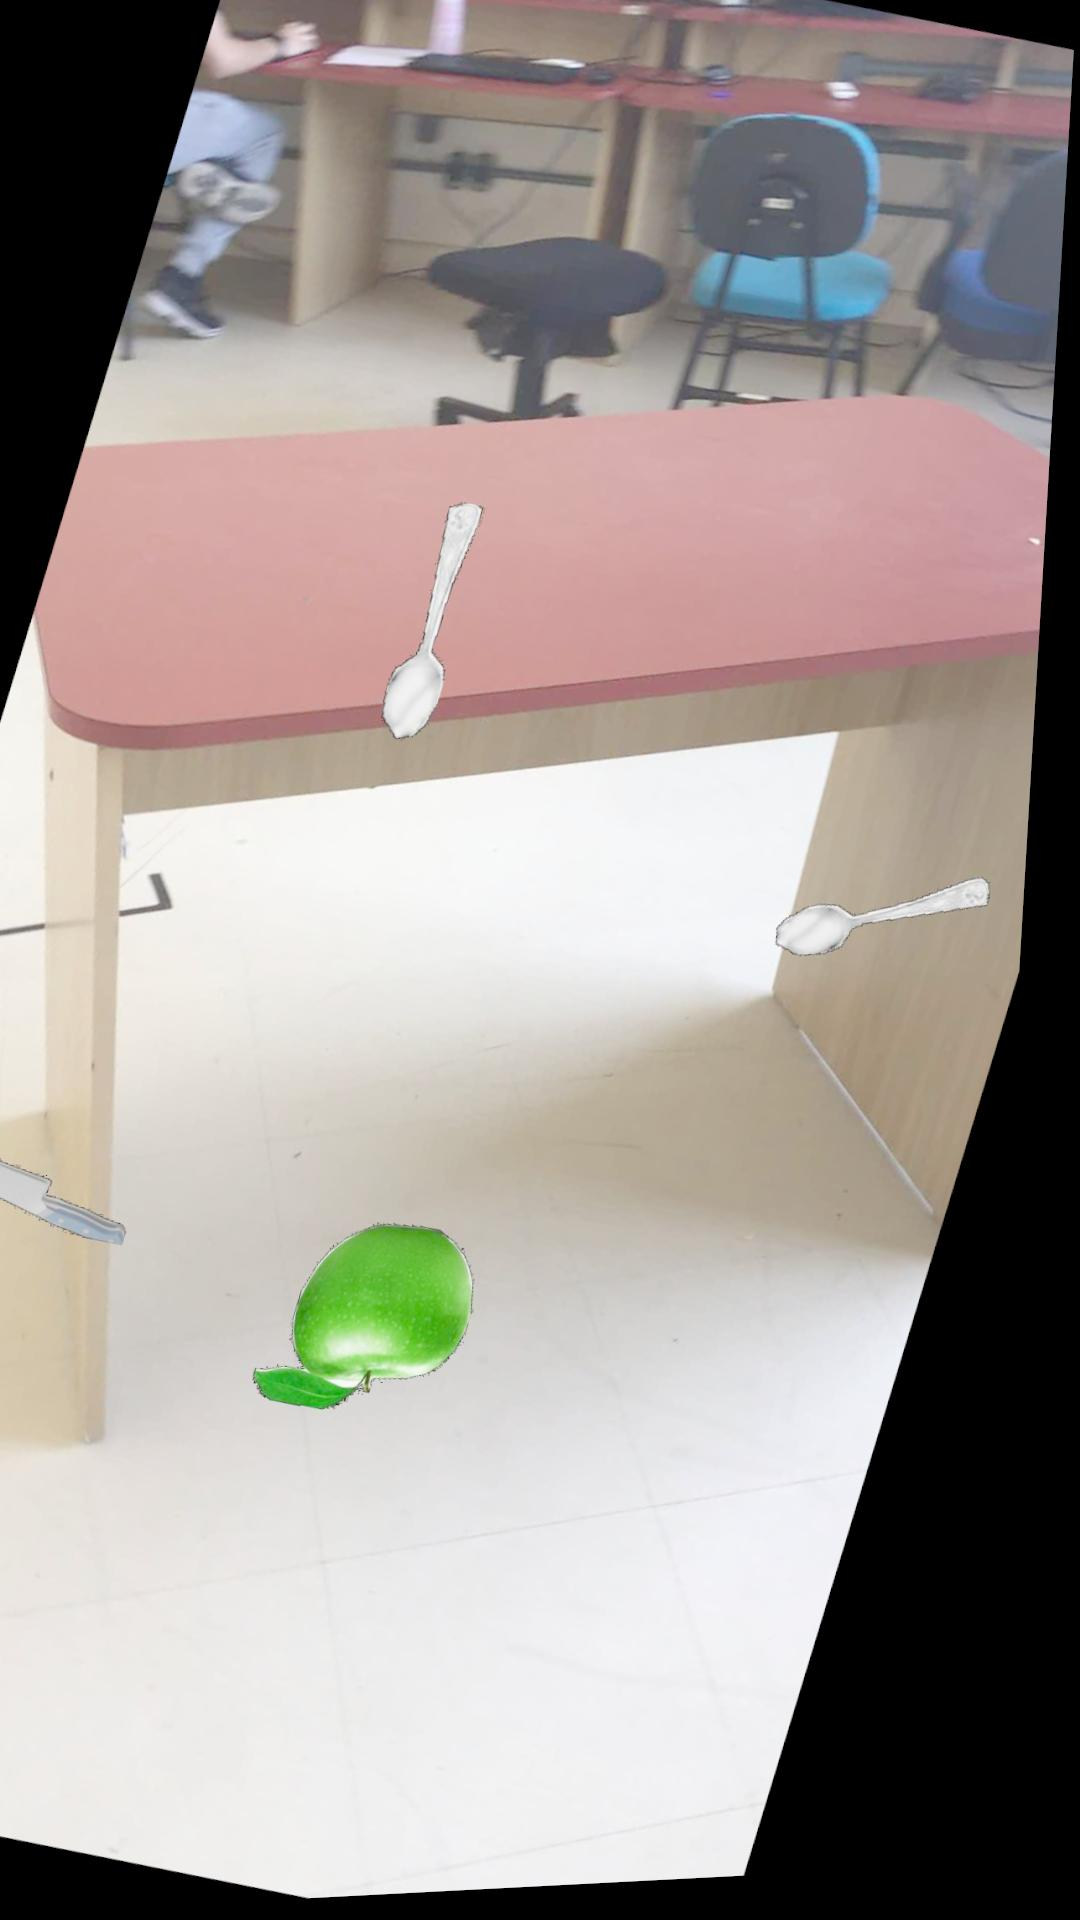green apple: (269, 1226, 488, 1411)
knife: (0, 1153, 140, 1245)
spoon: (389, 505, 488, 741), (787, 886, 1000, 963)
